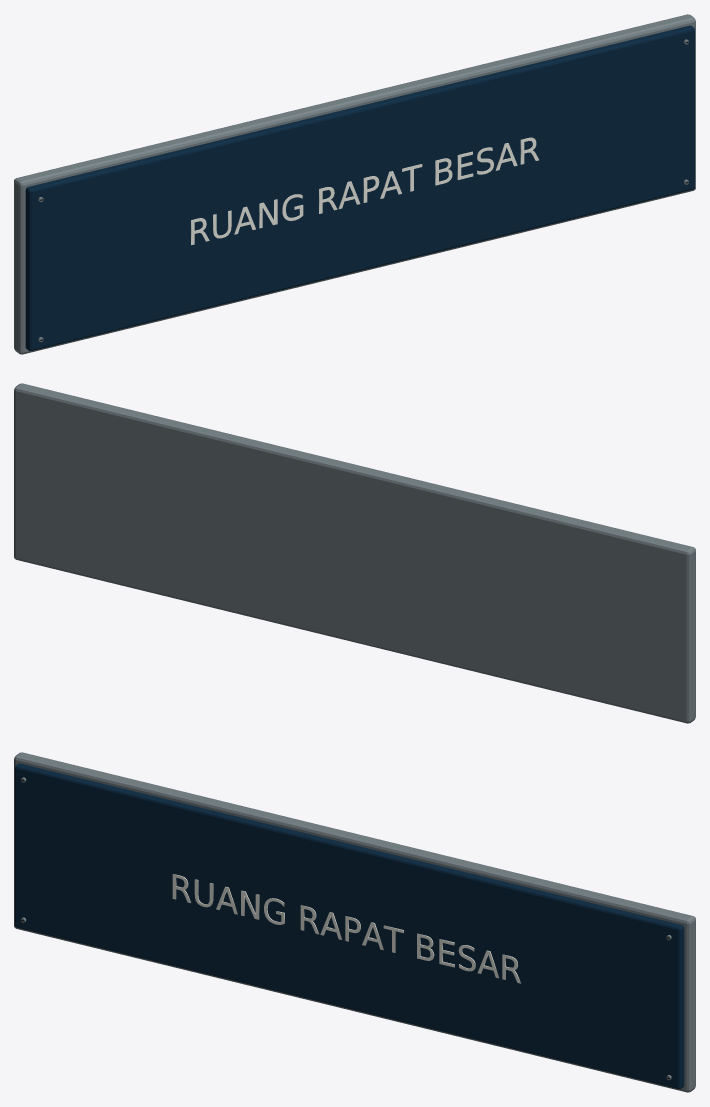
File: OAA_Papan_Ruang_Ruang_Rapat_Besar.fbx
3 views of the same model, one above another, from view 1: azimuth 30°, elevation 25°; view 2: azimuth 150°, elevation 25°; view 3: azimuth 330°, elevation 25° (orthographic).
Visible parts, largest first — view 1: Body; view 2: Body; view 3: Body.
Part boxes in pixels (bbox=[...]): Body: bbox=[14, 14, 695, 354]; Body: bbox=[14, 383, 695, 723]; Body: bbox=[14, 752, 695, 1092].
Size of the model in its own units: 0.9 by 0.22 by 0.0312.
